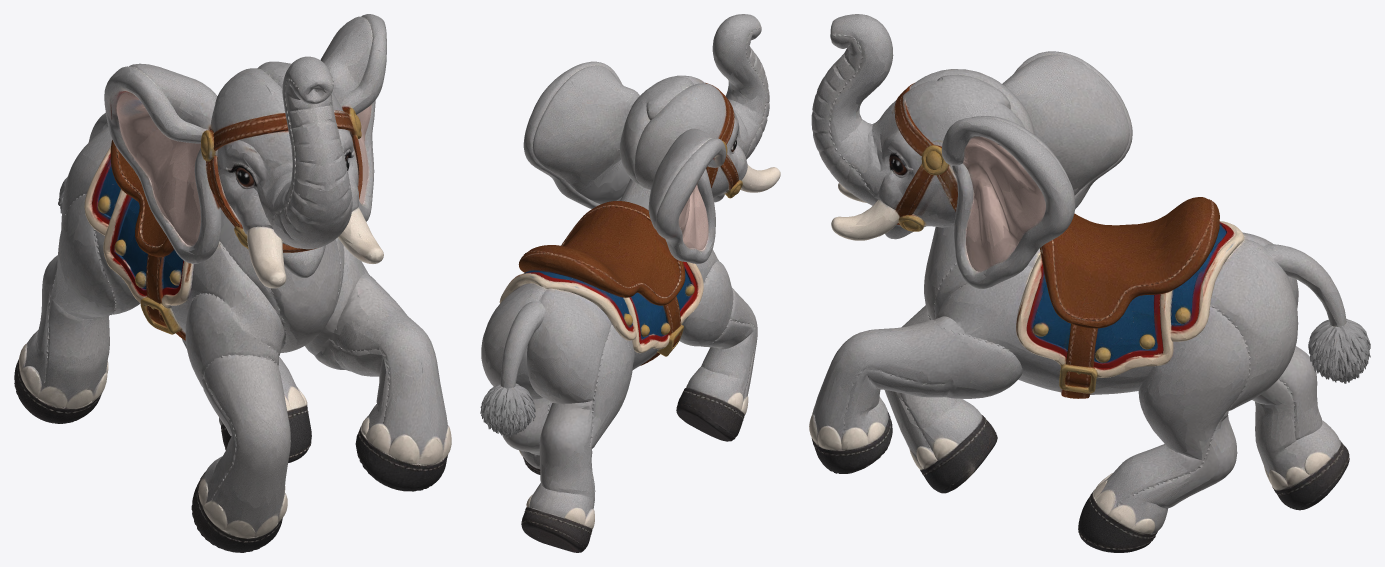
Rendered from elephant.glb.
3 renders of one model, left to right at view 1: azimuth 30°, elevation 25°; view 2: azimuth 150°, elevation 25°; view 3: azimuth 270°, elevation 25°, orthographic. The views are drawn at different scales.
Size of the model in its own units: 0.9053 by 1.84 by 1.9.
Materials: 1 (1 with a texture image).
